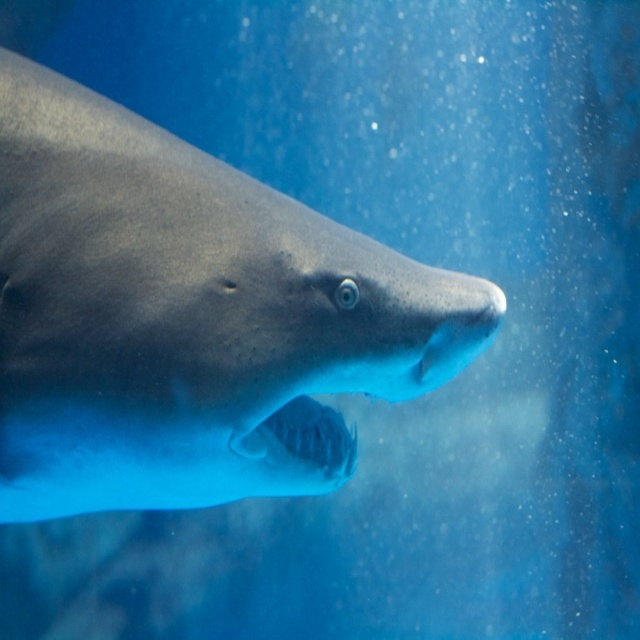Shark: (0, 47, 507, 525)
